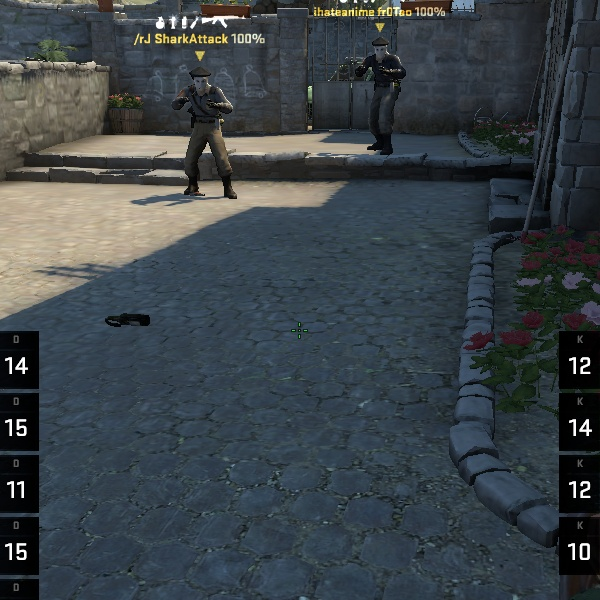t_body: (165, 65, 244, 203)
